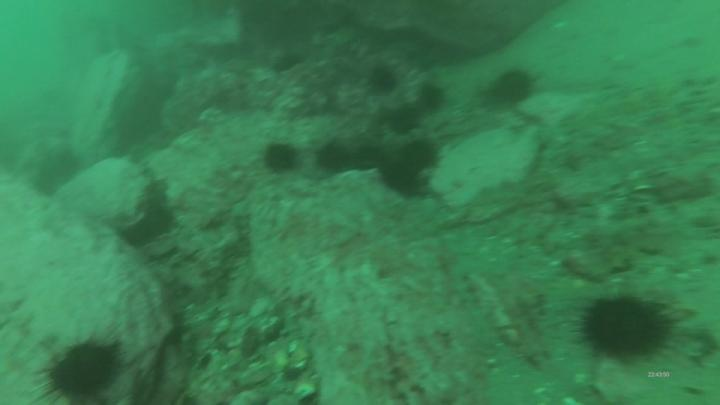echinus: (575, 289, 684, 369), (32, 335, 129, 405), (482, 67, 539, 109), (126, 207, 176, 250), (396, 134, 442, 179), (379, 159, 425, 202), (346, 137, 382, 177), (262, 142, 303, 177), (315, 141, 353, 177), (387, 101, 420, 139), (413, 84, 448, 118), (366, 63, 400, 92), (271, 52, 308, 73)
